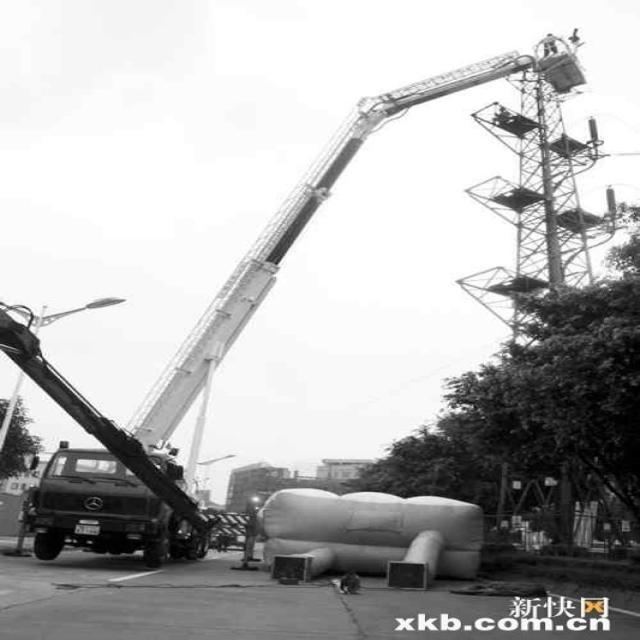non-critical vegetation: (498, 70, 608, 344)
